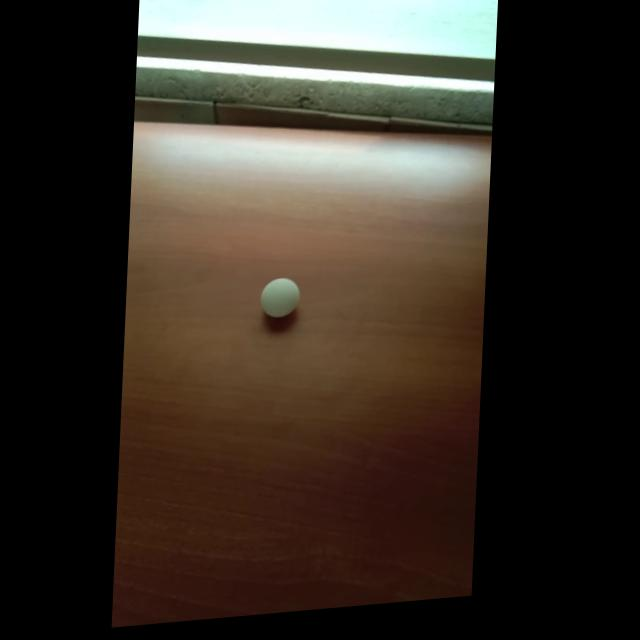white ball: (259, 276, 300, 320)
